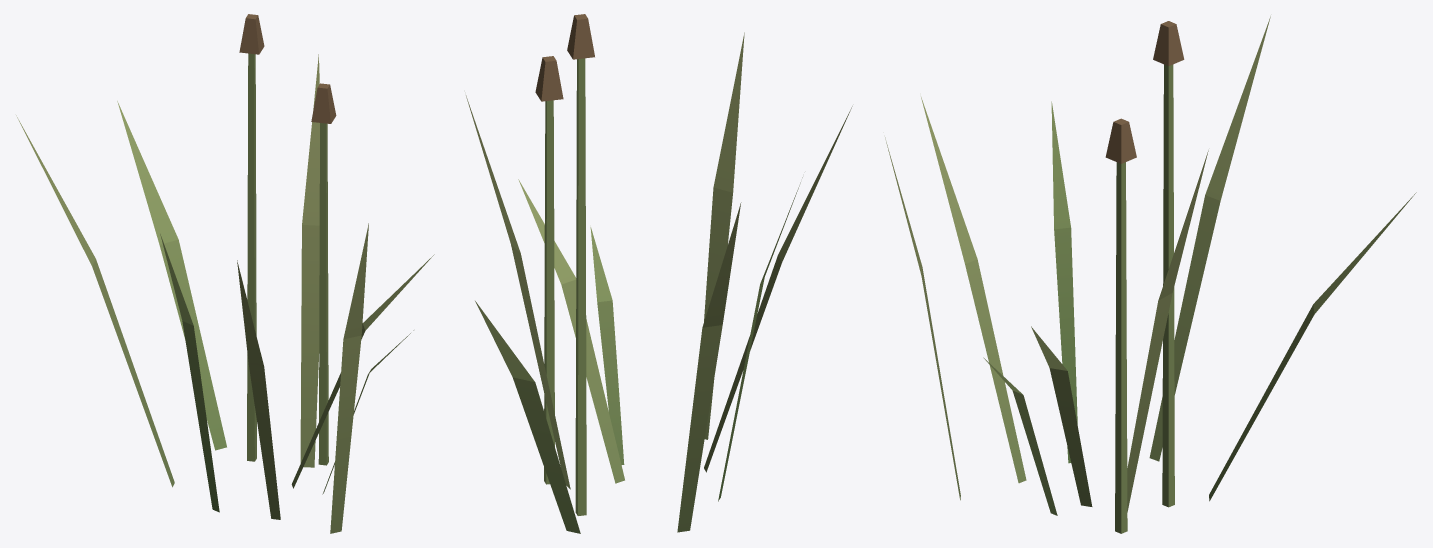
Rendered from reeds_lod1.glb.
3 views of the same model, side by side, from view 1: azimuth 30°, elevation 25°; view 2: azimuth 150°, elevation 25°; view 3: azimuth 270°, elevation 25° (orthographic). The views are drawn at different scales.
Parts seen in each view (by area): view 1: reeds_lod1; view 2: reeds_lod1; view 3: reeds_lod1.
Part boxes in pixels (x1,y1,x2,y2): reeds_lod1: (16,14,434,533); reeds_lod1: (466,14,852,533); reeds_lod1: (885,16,1416,533).
Bounding box in the file's own units: 0.9893 × 1.35 × 1.36.
